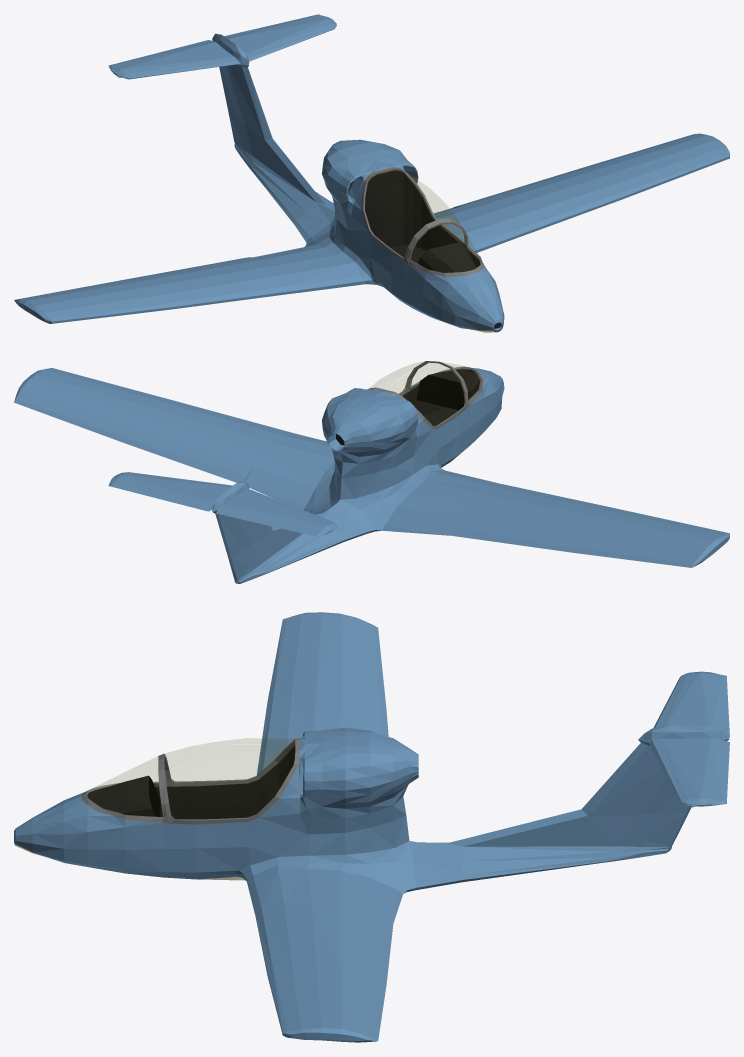
Rendered from aircraft_1_damage.glb.
3 views of the same model, one above another, from view 1: azimuth 30°, elevation 25°; view 2: azimuth 150°, elevation 25°; view 3: azimuth 270°, elevation 25° (orthographic). The views are drawn at different scales.
Visible parts, largest first — view 1: fuselage, wing middle left, wing middle right, OuterWingLeft, VerticalTip, OuterWingRight, TailBreakaway, HorizontalTipRight, HorizontalTipLeft, elevator, wing outer left, wing outer right (+2 smaller); view 2: fuselage, wing middle left, wing middle right, OuterWingLeft, OuterWingRight, TailBreakaway, aileron left, aileron right, VerticalTip, elevator, rudder, HorizontalTipRight (+4 smaller); view 3: fuselage, TailBreakaway, wing middle left, VerticalTip, OuterWingRight, wing middle right, OuterWingLeft, canopy, aileron right, elevator, aileron left, HorizontalTipLeft (+4 smaller).
Boxes of the visible parts, x1,y1,x2,y2 form: fuselage: (254,139,506,332); wing middle left: (452,169,620,241); wing middle right: (129,257,297,309); OuterWingLeft: (602,134,729,193); VerticalTip: (176,31,280,126); OuterWingRight: (19,282,153,323); TailBreakaway: (232,102,318,205); HorizontalTipRight: (111,52,201,79); HorizontalTipLeft: (263,17,336,50); elevator: (108,14,326,70); wing outer left: (586,165,640,199); wing outer right: (122,279,173,311); fuselage: (244,361,504,551); wing middle left: (126,400,294,482); wing middle right: (451,484,617,552); OuterWingLeft: (19,368,147,418); OuterWingRight: (602,513,729,559); TailBreakaway: (232,523,320,583); aileron left: (14,387,138,443); aileron right: (573,533,705,567); VerticalTip: (176,481,280,538); elevator: (108,479,327,537); rudder: (216,515,249,574); HorizontalTipRight: (263,501,336,533); fuselage: (14,727,508,923); TailBreakaway: (509,787,676,875); wing middle left: (255,902,393,983); VerticalTip: (591,707,729,799); OuterWingRight: (270,612,354,687); wing middle right: (256,692,388,775); OuterWingLeft: (270,975,354,1042); canopy: (96,738,293,786); aileron right: (354,617,386,710); elevator: (711,672,729,805); aileron left: (354,971,386,1042); HorizontalTipLeft: (659,760,711,807).
Size of the model in its own units: 11.91 by 2.04 by 8.57.
